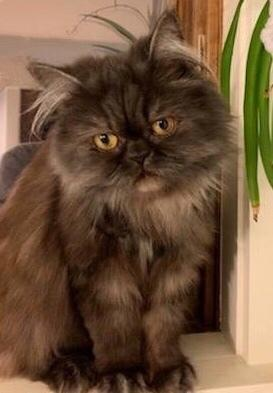persian: (17, 11, 223, 218)
